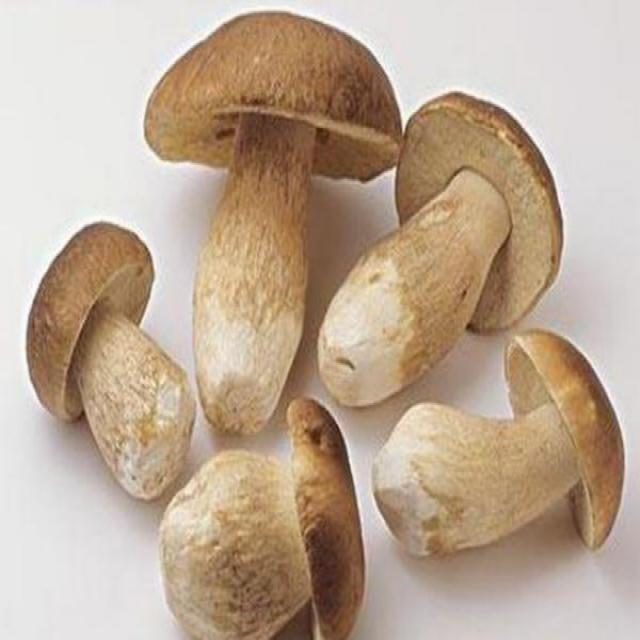Boletus: (144, 10, 404, 430), (319, 94, 565, 407), (377, 335, 625, 579), (164, 400, 367, 637), (29, 220, 196, 503)
